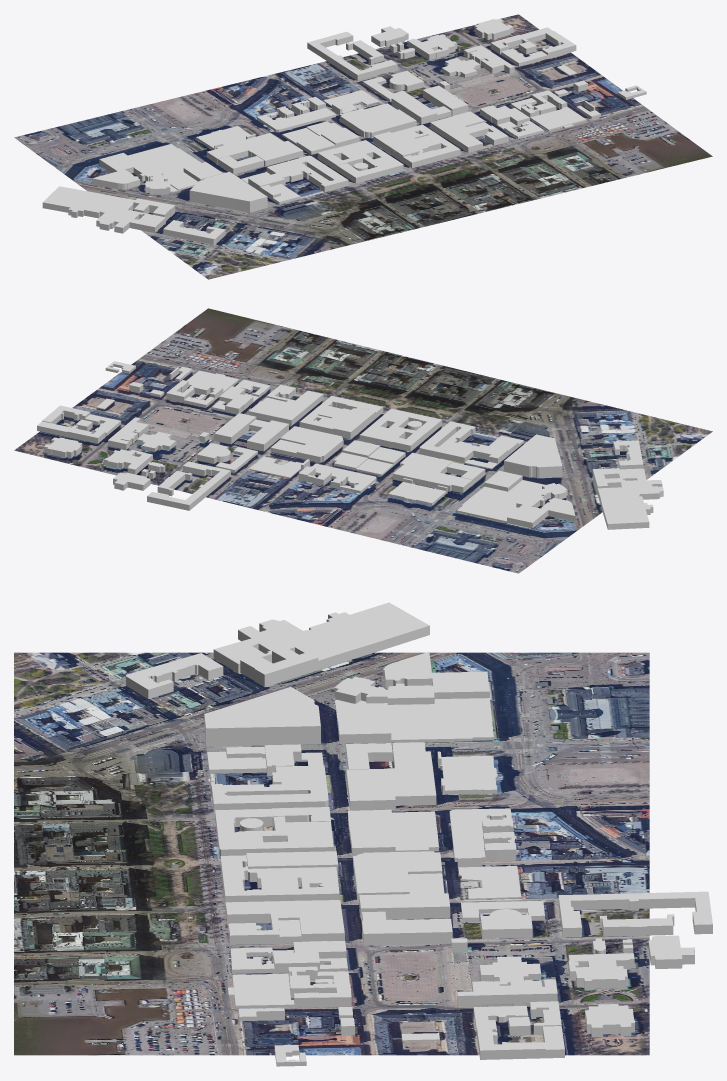
Rendered from Alek_Katu.glb.
3 renders of one model, top to bottom at view 1: azimuth 30°, elevation 25°; view 2: azimuth 150°, elevation 25°; view 3: azimuth 270°, elevation 25°, orthographic. The views are drawn at different scales.
Parts seen in each view (by area): view 1: EXPORT_GOOGLE_SAT_WM, Boxes; view 2: EXPORT_GOOGLE_SAT_WM, Boxes; view 3: EXPORT_GOOGLE_SAT_WM, Boxes.
Boxes of the visible parts, bbox=[...] form: EXPORT_GOOGLE_SAT_WM: bbox=[14, 14, 712, 279]; Boxes: bbox=[42, 18, 646, 244]; EXPORT_GOOGLE_SAT_WM: bbox=[14, 308, 712, 573]; Boxes: bbox=[37, 361, 663, 529]; EXPORT_GOOGLE_SAT_WM: bbox=[14, 652, 649, 1055]; Boxes: bbox=[126, 602, 712, 1066].
Size of the model in its own units: 2070 by 48.82 by 1345.
1 material, 1 textured.
